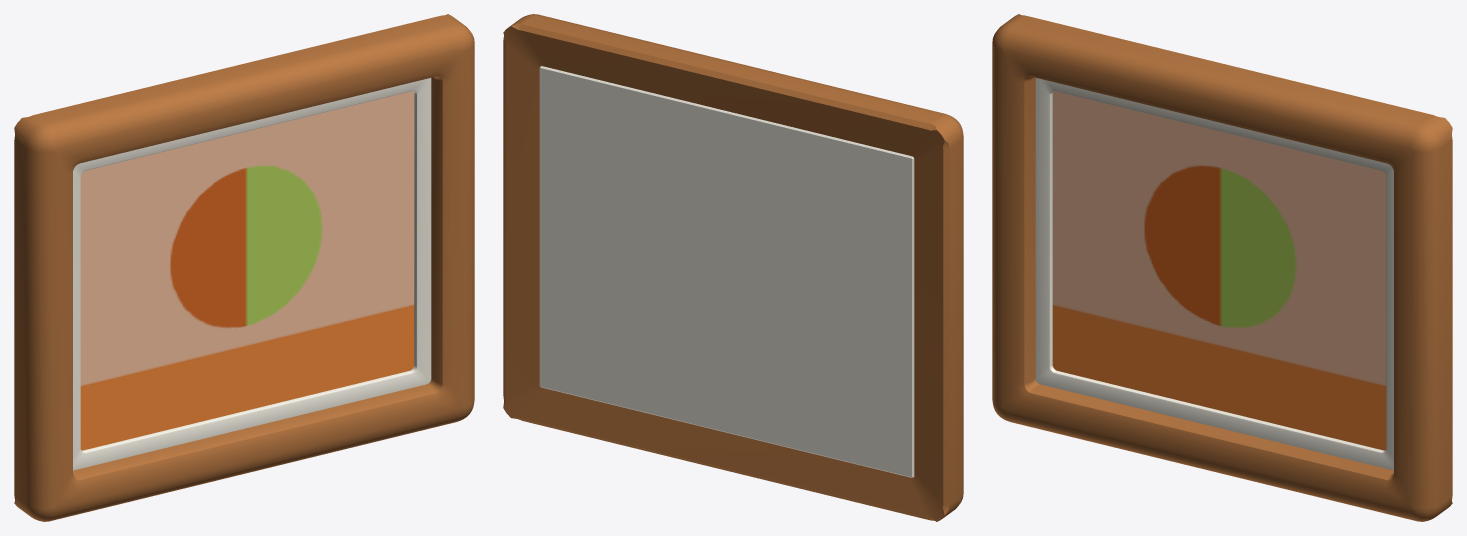
The model's file is quadro_sol_dividido.glb.
The picture shows the model from 3 angles, left to right: view 1: azimuth 30°, elevation 25°; view 2: azimuth 150°, elevation 25°; view 3: azimuth 330°, elevation 25°; orthographic projection.
Visible parts, largest first — view 1: quadro_sol_dividido; view 2: quadro_sol_dividido; view 3: quadro_sol_dividido.
Boxes of the visible parts, left/top/right/bottom form: quadro_sol_dividido: left=14, top=14, right=474, bottom=521; quadro_sol_dividido: left=503, top=14, right=963, bottom=521; quadro_sol_dividido: left=992, top=14, right=1452, bottom=521.
Size of the model in its own units: 0.372 by 0.316 by 0.035.
2 materials, 2 textured.
